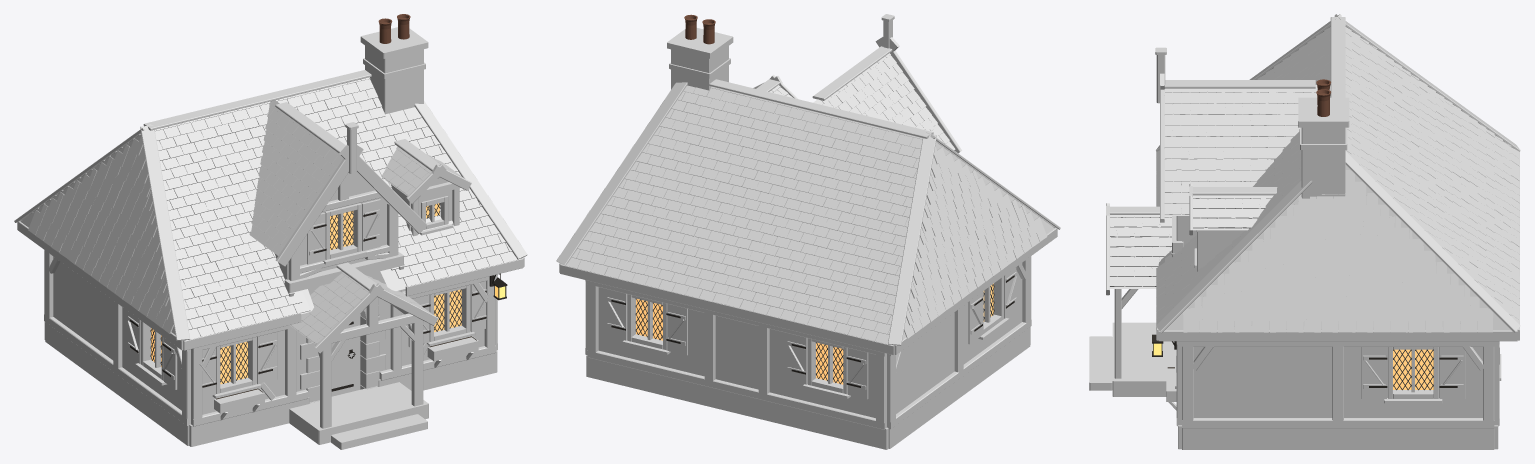
The model's file is SilverbrookCottage1.glb.
The picture shows the model from 3 angles, left to right: view 1: azimuth 30°, elevation 25°; view 2: azimuth 150°, elevation 25°; view 3: azimuth 270°, elevation 25°; orthographic projection. The views are drawn at different scales.
Parts seen in each view (by area): view 1: SM_SBCottage1_Roof, SM_SBCottage1_Timber, SM_SBCottage1_Masonry, SM_SBCottage1_Details, SM_SBCottage1_Plaster; view 2: SM_SBCottage1_Roof, SM_SBCottage1_Masonry, SM_SBCottage1_Timber, SM_SBCottage1_Details; view 3: SM_SBCottage1_Roof, SM_SBCottage1_Masonry, SM_SBCottage1_Timber, SM_SBCottage1_Details, SM_SBCottage1_Plaster.
Boxes of the visible parts, x1,y1,x2,y2 form: SM_SBCottage1_Roof: (14,70,527,344); SM_SBCottage1_Timber: (17,122,524,428); SM_SBCottage1_Masonry: (44,27,497,449); SM_SBCottage1_Details: (127,14,507,399); SM_SBCottage1_Plaster: (274,172,452,279); SM_SBCottage1_Roof: (556,46,1060,345); SM_SBCottage1_Masonry: (586,28,1030,449); SM_SBCottage1_Timber: (559,14,1057,429); SM_SBCottage1_Details: (606,14,1016,399); SM_SBCottage1_Roof: (1109,14,1520,332); SM_SBCottage1_Masonry: (1089,97,1498,449); SM_SBCottage1_Timber: (1106,47,1519,428); SM_SBCottage1_Details: (1152,79,1499,398); SM_SBCottage1_Plaster: (1182,216,1245,267).
Bounding box in the file's own units: 7.65 × 6.53 × 7.45.
